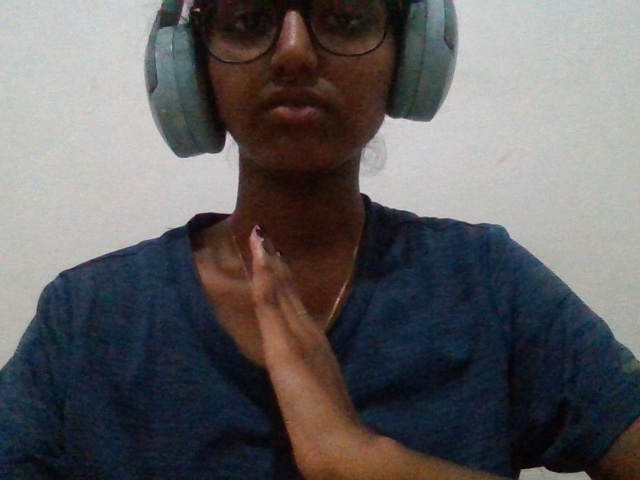Fine: (201, 202, 440, 480)
